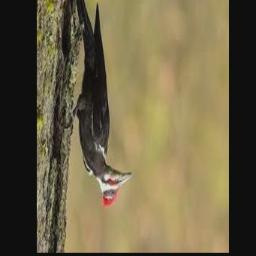Woodpecker: (62, 0, 131, 206)
